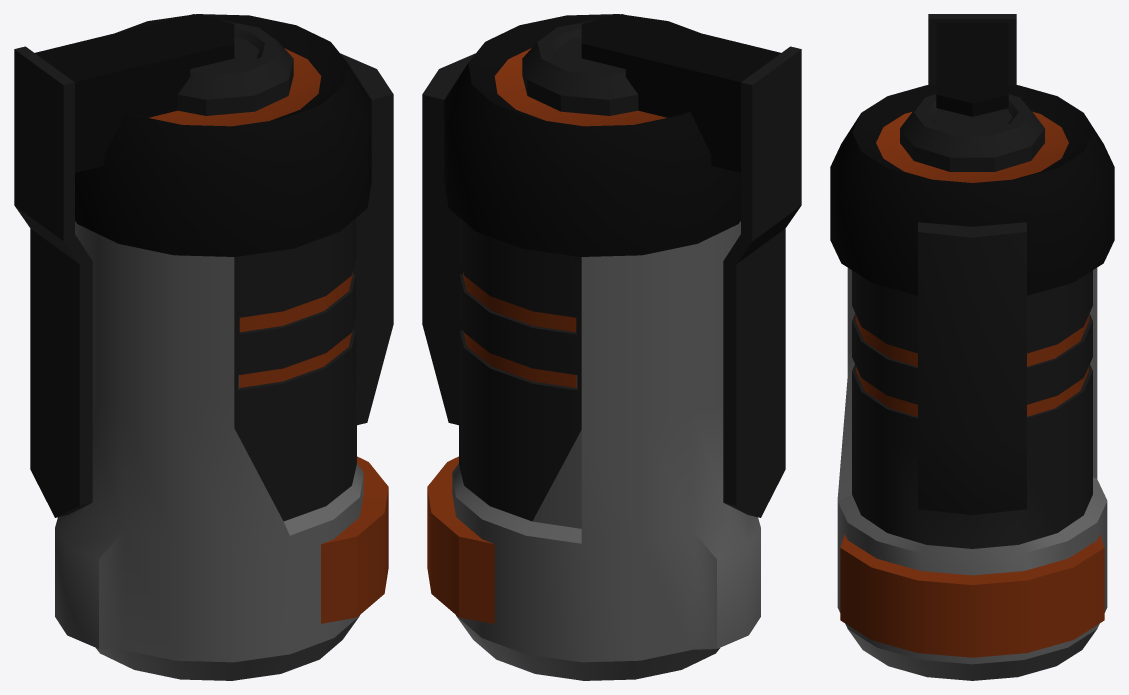
The model's file is Grenade.obj.
3 renders of one model, left to right at view 1: azimuth 30°, elevation 25°; view 2: azimuth 150°, elevation 25°; view 3: azimuth 270°, elevation 25°, orthographic. The views are drawn at different scales.
Visible parts, largest first — view 1: Grenade_Cylinder.013; view 2: Grenade_Cylinder.013; view 3: Grenade_Cylinder.013.
Boxes of the visible parts, left/top/right/bottom form: Grenade_Cylinder.013: left=14, top=14, right=393, bottom=680; Grenade_Cylinder.013: left=422, top=14, right=801, bottom=680; Grenade_Cylinder.013: left=830, top=14, right=1114, bottom=680.
Size of the model in its own units: 0.1785 by 0.3033 by 0.1447.
